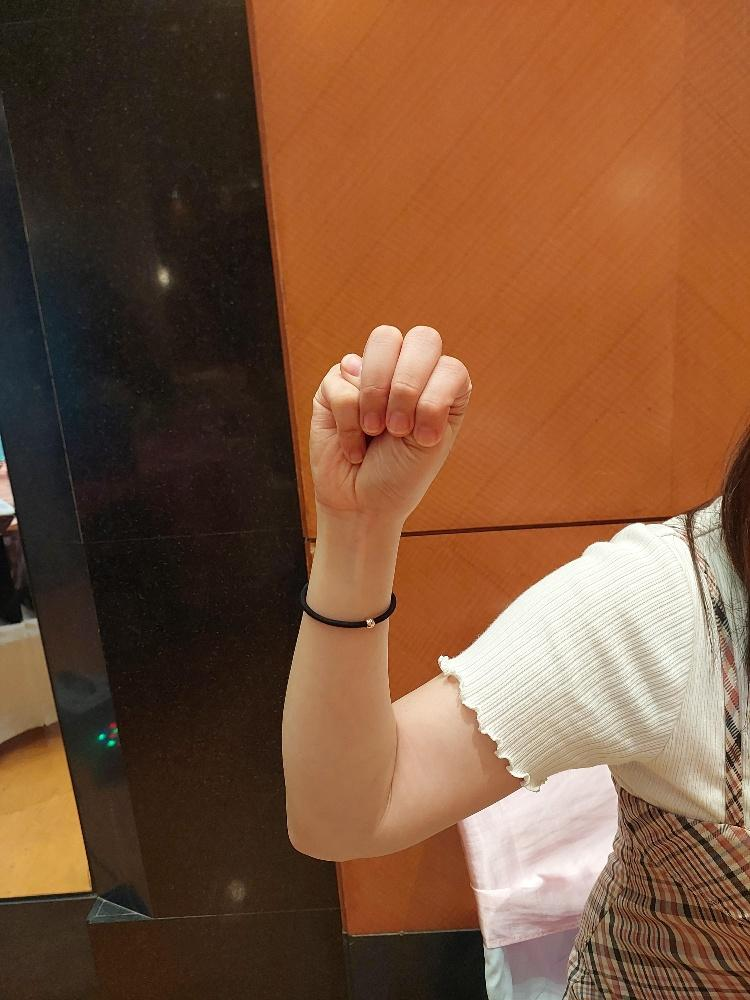m: (308, 321, 474, 524)
